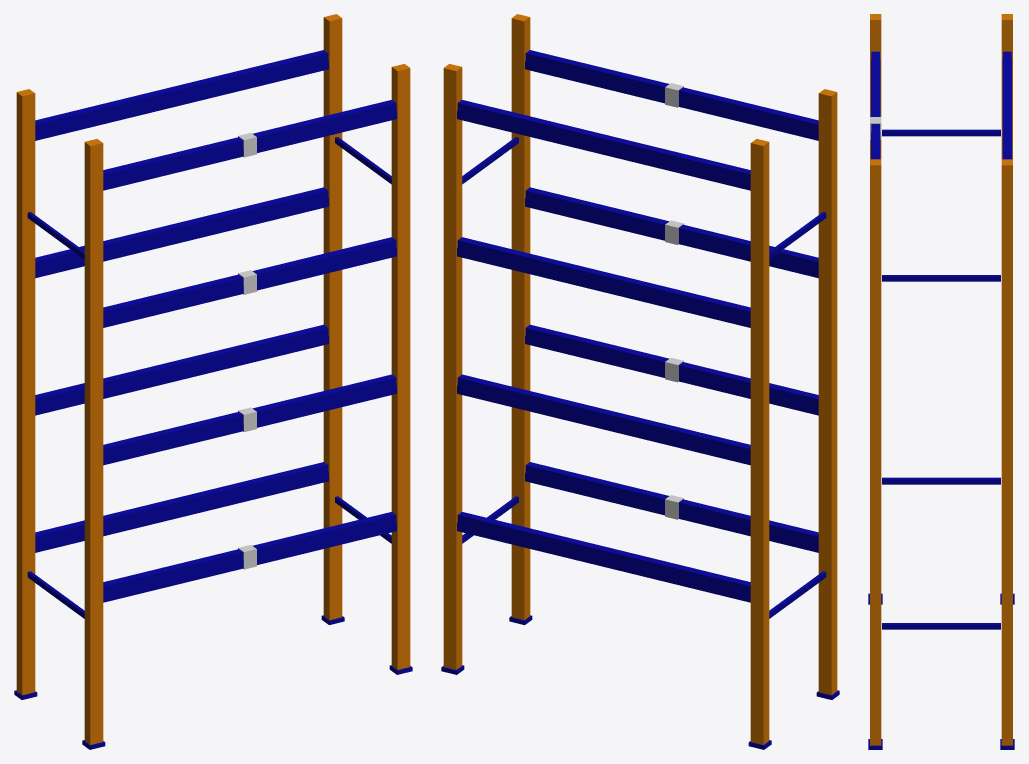
File: high-duty-C25-4.glb
3 renders of one model, left to right at view 1: azimuth 30°, elevation 25°; view 2: azimuth 150°, elevation 25°; view 3: azimuth 270°, elevation 25°, orthographic. The views are drawn at different scales.
Parts seen in each view (by area): view 1: part_0, part_4, part_2, part_6, part_25, part_23, part_8, part_13, part_18, part_10, part_15, part_20 (+8 smaller); view 2: part_4, part_0, part_6, part_2, part_10, part_20, part_25, part_15, part_23, part_8, part_13, part_18 (+8 smaller); view 3: part_2, part_6, part_25, part_28, part_29, part_23, part_30, part_31, part_4, part_0.
Boxes of the visible parts, <box> form: part_0: <box>84,139,103,744</box>; part_4: <box>16,89,35,695</box>; part_2: <box>391,64,410,669</box>; part_6: <box>323,14,342,620</box>; part_25: <box>35,50,328,132</box>; part_23: <box>103,100,396,182</box>; part_8: <box>103,512,396,594</box>; part_13: <box>103,374,396,456</box>; part_18: <box>103,237,396,319</box>; part_10: <box>35,462,328,544</box>; part_15: <box>35,324,328,407</box>; part_20: <box>35,187,328,269</box>; part_4: <box>750,139,769,744</box>; part_0: <box>818,89,837,695</box>; part_6: <box>443,64,462,669</box>; part_2: <box>511,14,530,620</box>; part_10: <box>457,512,750,594</box>; part_20: <box>457,237,750,319</box>; part_25: <box>457,100,750,182</box>; part_15: <box>457,374,750,456</box>; part_23: <box>525,50,818,132</box>; part_8: <box>525,462,818,544</box>; part_13: <box>525,324,818,407</box>; part_18: <box>525,187,818,269</box>; part_2: <box>870,159,881,745</box>; part_6: <box>1001,159,1012,745</box>; part_25: <box>1003,51,1011,159</box>; part_28: <box>882,477,1000,484</box>; part_29: <box>882,129,1000,136</box>; part_23: <box>871,51,879,159</box>; part_30: <box>882,623,1000,629</box>; part_31: <box>882,275,1000,281</box>; part_4: <box>1001,14,1012,159</box>; part_0: <box>870,14,881,159</box>.
Size of the model in its own units: 2520 by 4500 by 1020.
